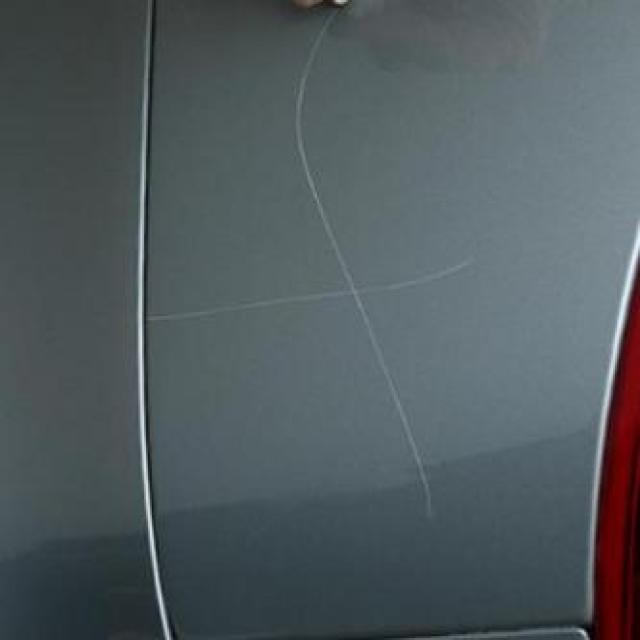scratch: (142, 6, 492, 525)
